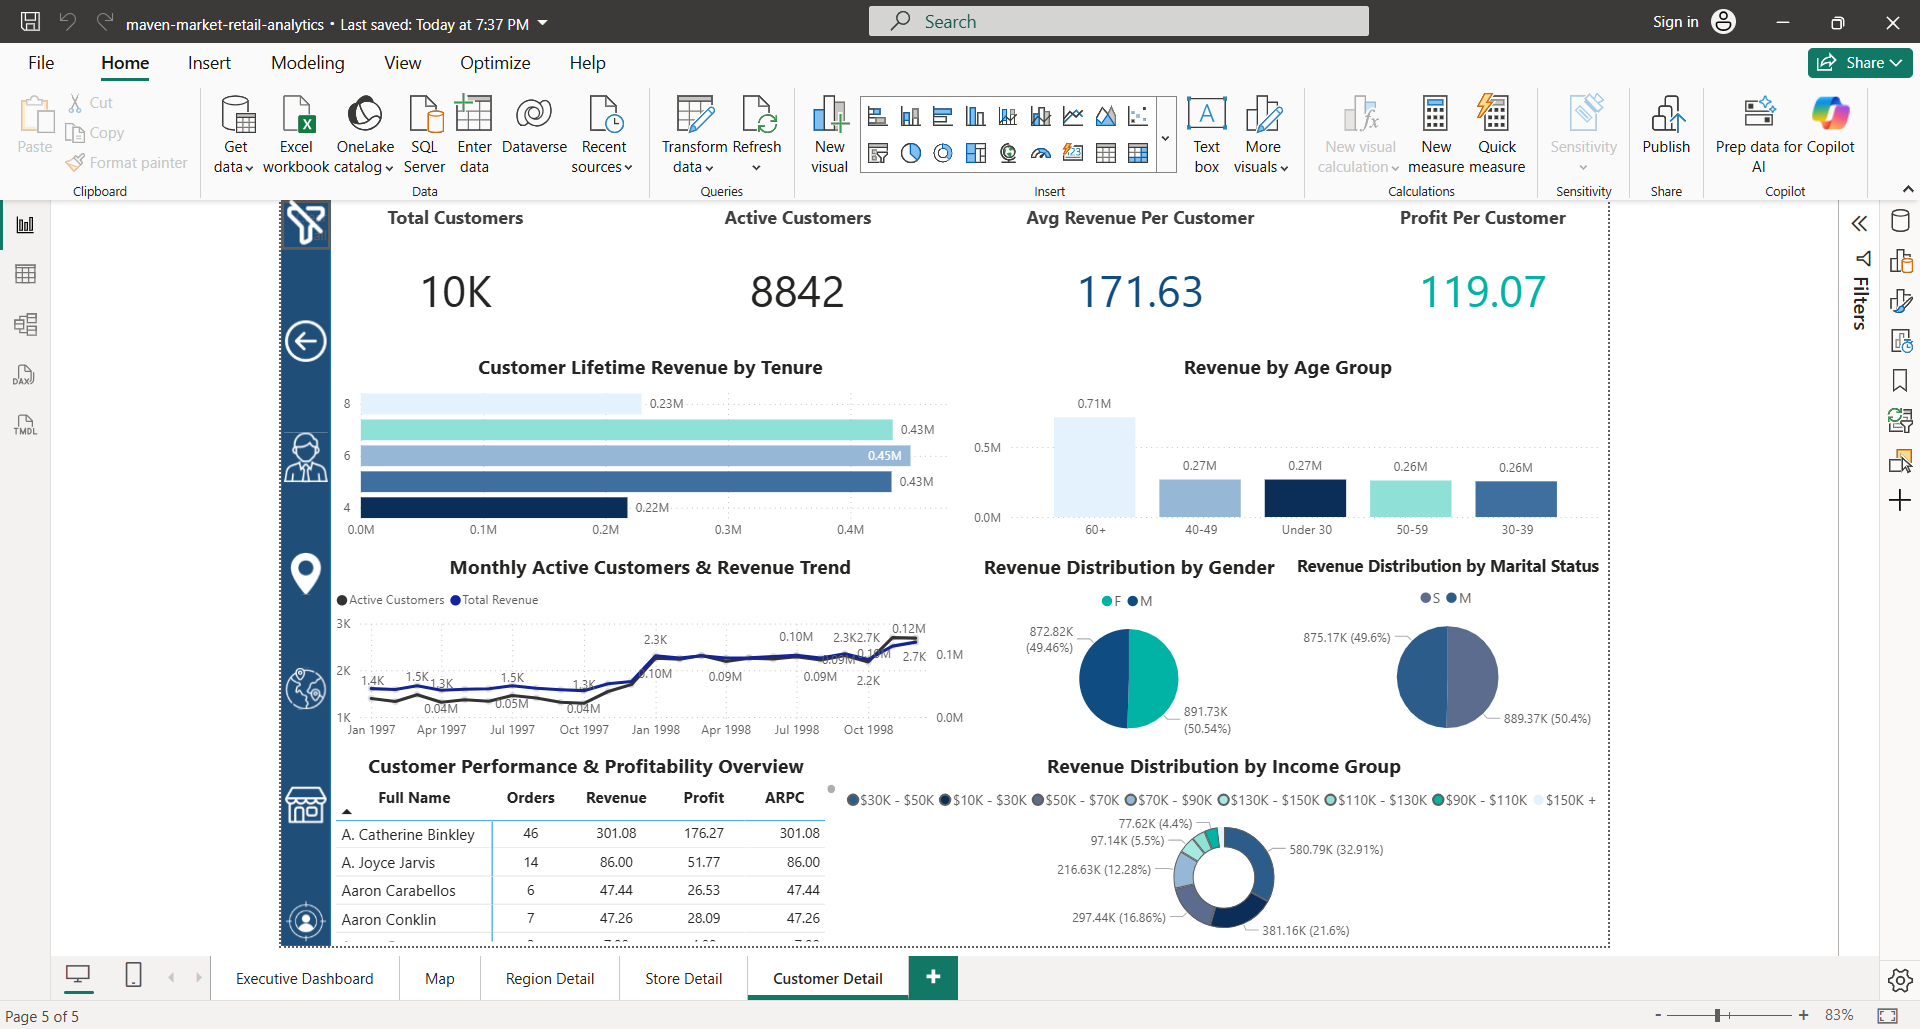

The dashboard page shown, as its layout file describes it:
{"tool":"powerbi","page":{"name":"Customer Detail","canvas":[1280,720],"ordinal":4},"visuals":[{"type":"card","title":"Active Customers","fields":{"Values":["Measure Table.Base | Active Customers"]},"box":[378.7,0,240,144],"z":0},{"type":"card","title":"Avg Revenue Per Customer","fields":{"Values":["Measure Table.KPI | Avg Revenue Per Customer"]},"box":[709.3,0,240,144],"z":1000},{"type":"actionButton","box":[0,672,48.3,48.3],"z":1000,"group":"g1"},{"type":"card","title":"Profit Per Customer","fields":{"Values":["Measure Table.Profit Per Customer"]},"box":[1040,0,240,144],"z":2000},{"type":"actionButton","box":[0,224.2,48,48],"z":2000,"group":"g1"},{"type":"card","title":"Total Customers","fields":{"Values":["Measure Table.Base | Total Customers"]},"box":[48,0,240,144],"z":3000},{"type":"actionButton","box":[0,336.2,48,48],"z":3000,"group":"g1"},{"type":"clusteredColumnChart","title":"Revenue by Age Group","fields":{"Category":["Customers.Age Group"],"Y":["Measure Table.Base | Total Revenue"]},"box":[663.4,144,616.6,192],"z":4000},{"type":"actionButton","box":[0,448.1,48,48],"z":4000,"group":"g1"},{"type":"donutChart","title":"Revenue Distribution by Income Group","fields":{"Category":["Customers.yearly_income"],"Y":["Measure Table.Base | Total Revenue"]},"box":[540.3,528,739.7,192],"z":5000},{"type":"actionButton","box":[0,560.1,48,48],"z":5000,"group":"g1"},{"type":"actionButton","box":[0,112.3,48,48],"z":6000,"group":"g1"},{"type":"lineChart","title":"Monthly Active Customers & Revenue Trend","fields":{"Category":["Calendar.Start of Month"],"Y":["Measure Table.Base | Active Customers"],"Y2":["Measure Table.Base | Total Revenue"]},"box":[48,336,616.6,192],"z":6000},{"type":"actionButton","box":[0,0,48.3,48.3],"z":7000,"group":"g1"},{"type":"pivotTable","title":"Customer Performance & Profitability Overview","fields":{"Rows":["Customers.Full Name"],"Values":["Measure Table.Base | Total Orders","Measure Table.Base | Total Revenue","Measure Table.Base | Total Profit","Measure Table.KPI | Avg Revenue Per Customer"]},"box":[48,528,492.3,192],"z":7000},{"type":"shape","box":[0,0,48,720],"z":8000},{"type":"pieChart","title":"Revenue Distribution by Gender","fields":{"Category":["Customers.gender"],"Y":["Measure Table.Base | Total Revenue"]},"box":[664.6,336,307.7,192],"z":9000},{"type":"pieChart","title":"Revenue Distribution by Marital Status","fields":{"Category":["Customers.marital_status"],"Y":["Measure Table.Base | Total Revenue"]},"box":[972.3,336,307.7,192],"z":10000},{"type":"clusteredBarChart","title":"Customer Lifetime Revenue by Tenure","fields":{"Category":["Customers.Customer Tenure"],"Y":["Measure Table.Base | Total Revenue"]},"box":[48,144,616.6,192],"z":11000},{"type":"group","id":"g1","title":"Group 1","box":[0,0,48.3,720.3],"z":12000}]}

Visuals, with their boxes on the page's 1280x720 design canvas (x1, y1, x2, y2). These are canvas units, not pixel positions in the 1920x1029 screenshot, which may show the page scaled, cropped or inside an application window:
"Active Customers" card: box(379, 0, 619, 144)
"Avg Revenue Per Customer" card: box(709, 0, 949, 144)
actionButton: box(0, 672, 48, 720)
"Profit Per Customer" card: box(1040, 0, 1280, 144)
actionButton: box(0, 224, 48, 272)
"Total Customers" card: box(48, 0, 288, 144)
actionButton: box(0, 336, 48, 384)
"Revenue by Age Group" clusteredColumnChart: box(663, 144, 1280, 336)
actionButton: box(0, 448, 48, 496)
"Revenue Distribution by Income Group" donutChart: box(540, 528, 1280, 720)
actionButton: box(0, 560, 48, 608)
actionButton: box(0, 112, 48, 160)
"Monthly Active Customers & Revenue Trend" lineChart: box(48, 336, 665, 528)
actionButton: box(0, 0, 48, 48)
"Customer Performance & Profitability Overview" pivotTable: box(48, 528, 540, 720)
shape: box(0, 0, 48, 720)
"Revenue Distribution by Gender" pieChart: box(665, 336, 972, 528)
"Revenue Distribution by Marital Status" pieChart: box(972, 336, 1280, 528)
"Customer Lifetime Revenue by Tenure" clusteredBarChart: box(48, 144, 665, 336)
"Group 1" group: box(0, 0, 48, 720)
